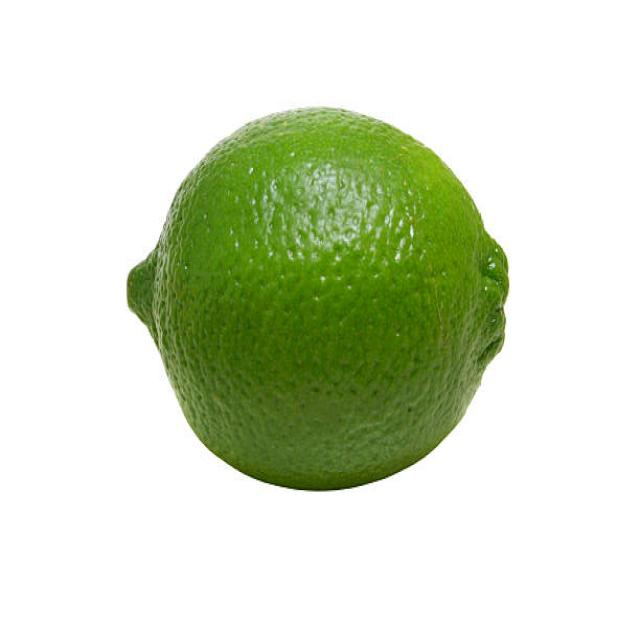Unripe: (126, 105, 512, 494)
